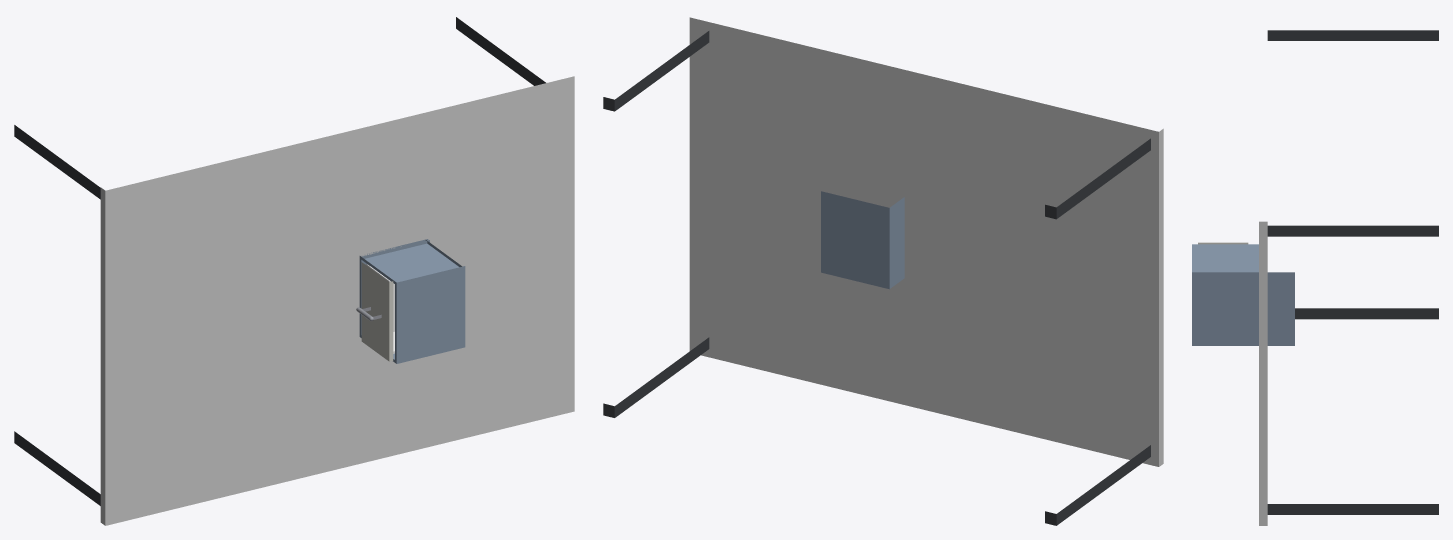
The picture shows the model from 3 angles, left to right: view 1: azimuth 30°, elevation 25°; view 2: azimuth 150°, elevation 25°; view 3: azimuth 270°, elevation 25°; orthographic projection. The views are drawn at different scales.
Parts seen in each view (by area): view 1: s0, s1, s2; view 2: s0, s1; view 3: s0, s1.
Part boxes in pixels (<box>): s0: <box>14,17,574,525</box>; s1: <box>359,239,465,363</box>; s2: <box>356,262,394,361</box>; s0: <box>603,17,1163,525</box>; s1: <box>821,191,904,289</box>; s0: <box>1259,30,1438,525</box>; s1: <box>1192,244,1294,345</box>.
Bounding box in the file's own units: 2.05 × 1.4 × 1.03.
